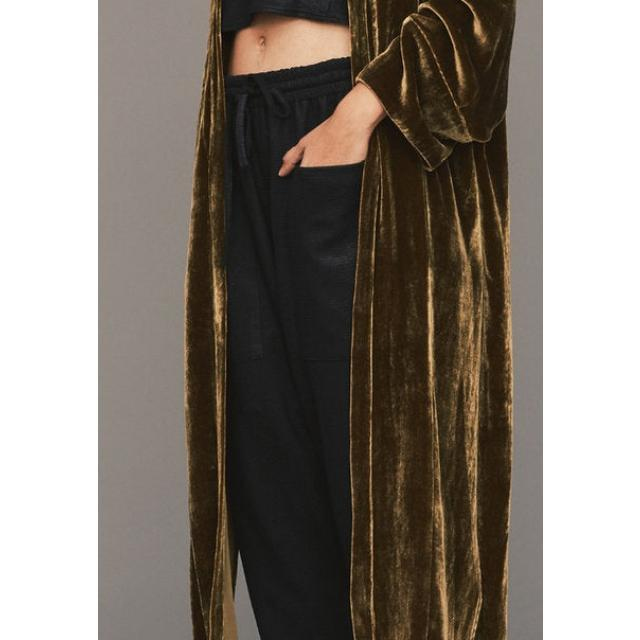polyester: (342, 0, 514, 640)
